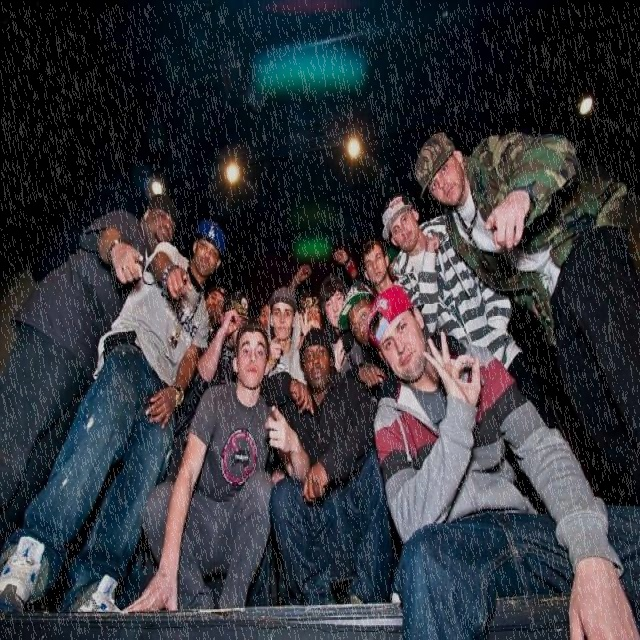pessoa: (363, 272, 639, 638), (0, 207, 230, 631), (413, 127, 639, 506), (0, 190, 180, 565), (134, 316, 275, 618), (257, 324, 397, 609), (380, 188, 542, 416), (168, 290, 252, 484), (284, 247, 358, 393), (336, 278, 400, 399), (262, 284, 308, 387), (359, 237, 398, 299), (202, 281, 226, 327), (347, 246, 372, 286), (255, 292, 272, 334)
